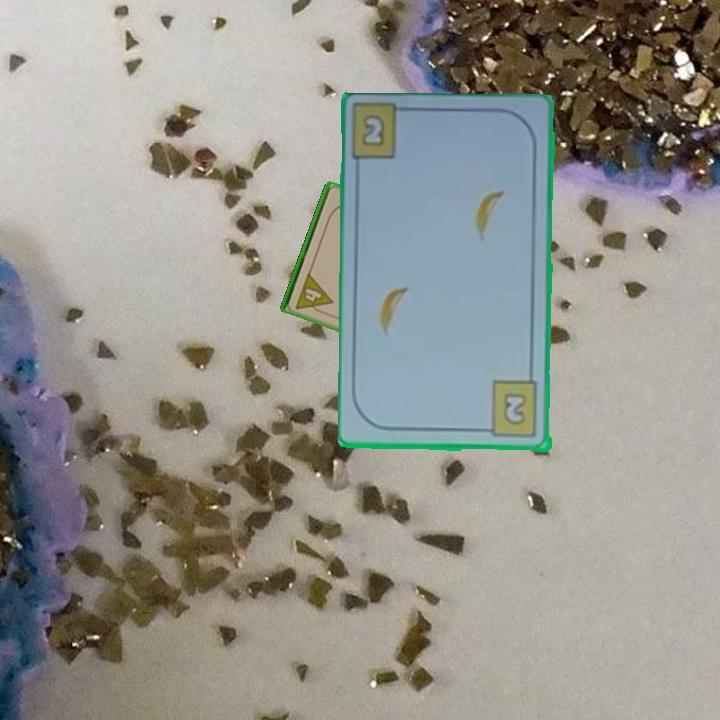2b: (479, 379, 541, 440), (359, 110, 388, 150)
4p: (292, 268, 336, 318)
